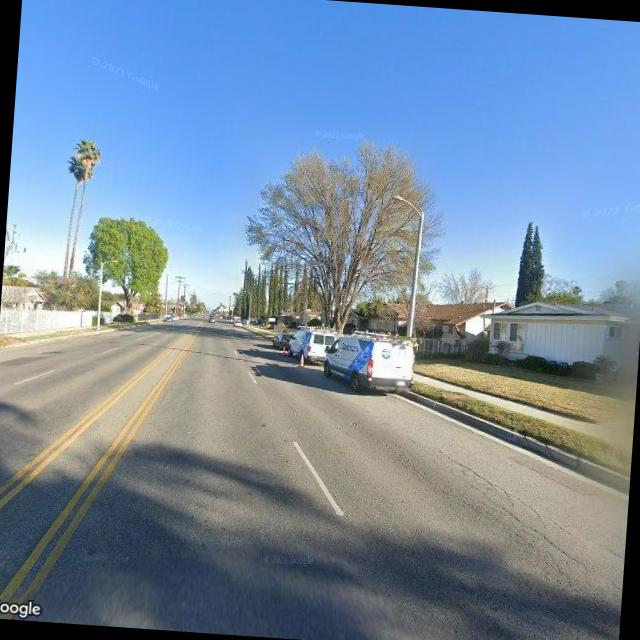pothole: (417, 445, 590, 563)
